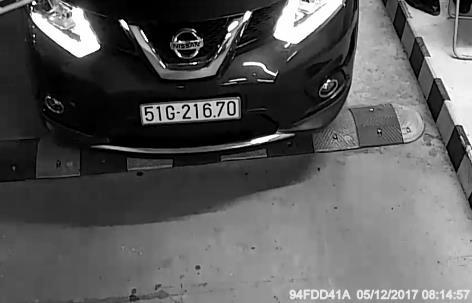License-plate: (137, 96, 246, 131)
